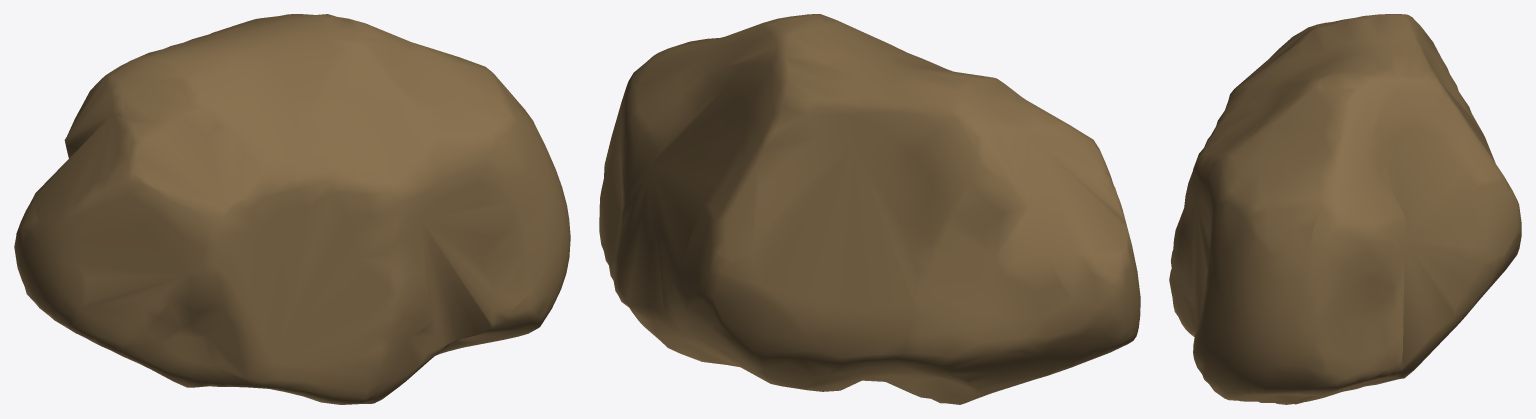
File: rock3sand.fbx
3 renders of one model, left to right at view 1: azimuth 30°, elevation 25°; view 2: azimuth 150°, elevation 25°; view 3: azimuth 270°, elevation 25°, orthographic. The views are drawn at different scales.
Visible parts, largest first — view 1: rock3sand; view 2: rock3sand; view 3: rock3sand.
Part boxes in pixels (box(x1,y1,x2,y2)): rock3sand: box(14, 14, 570, 404); rock3sand: box(599, 14, 1140, 404); rock3sand: box(1169, 14, 1521, 404).
Bounding box in the file's own units: 466 × 299 × 314.
